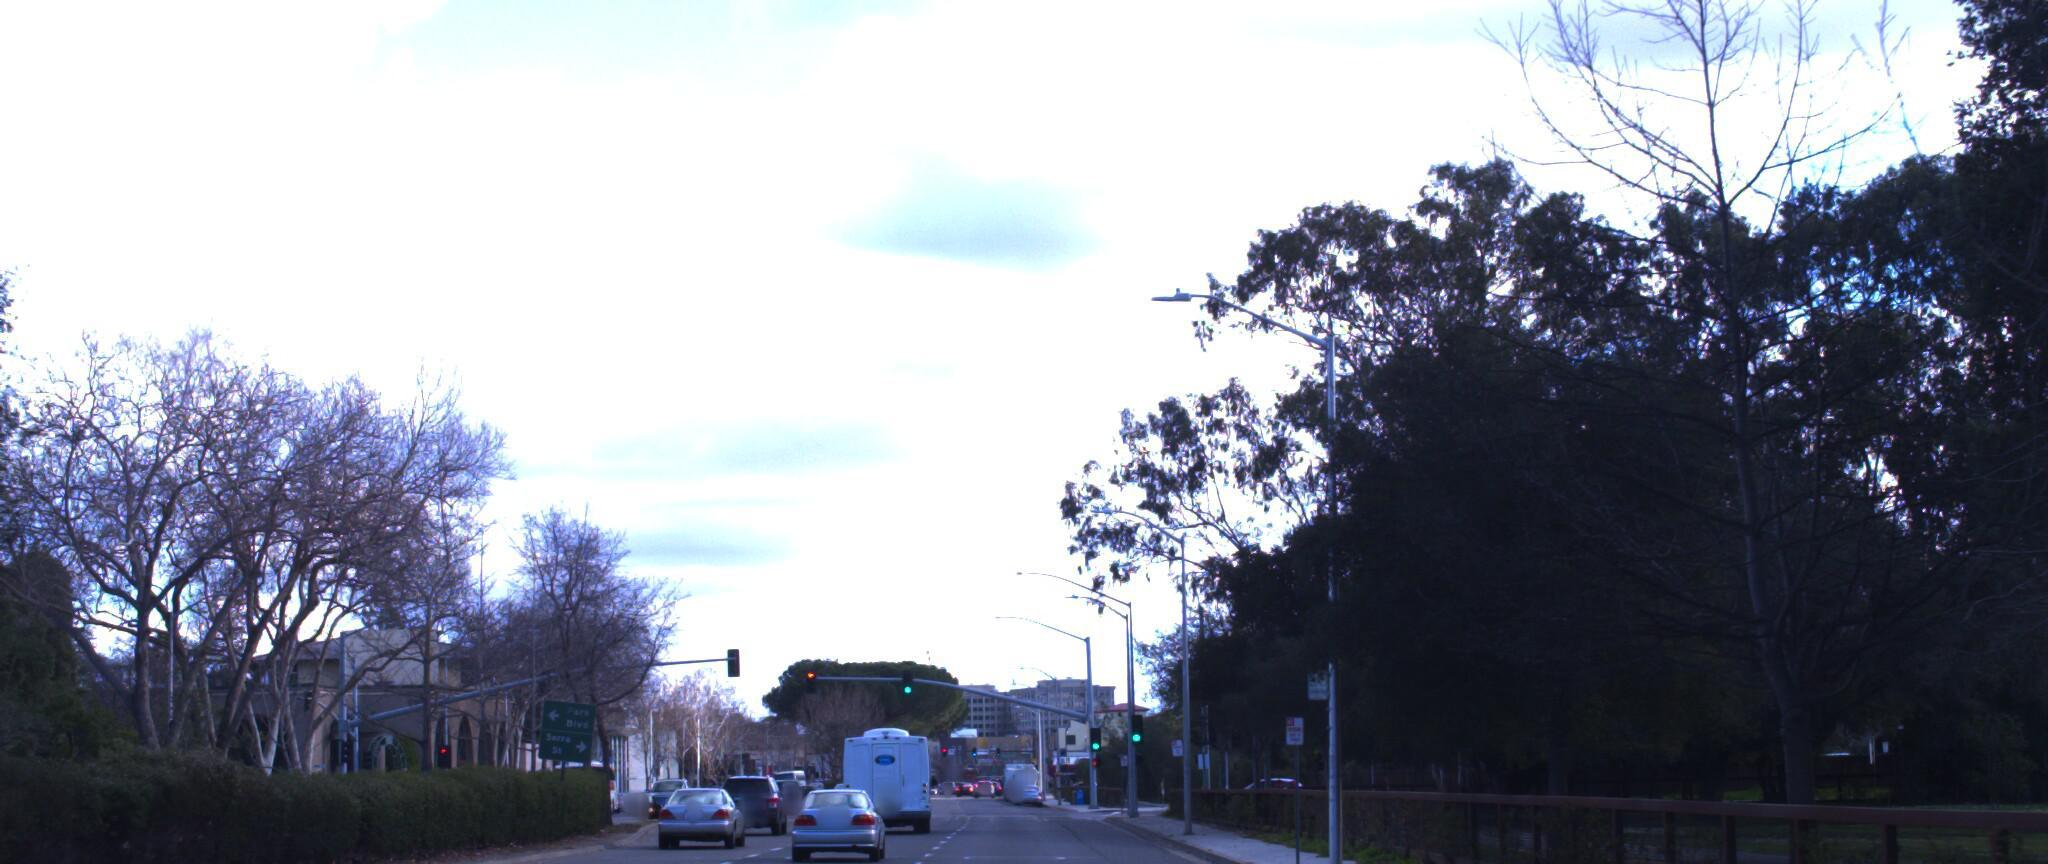car: (784, 762, 889, 848), (660, 760, 755, 826)
